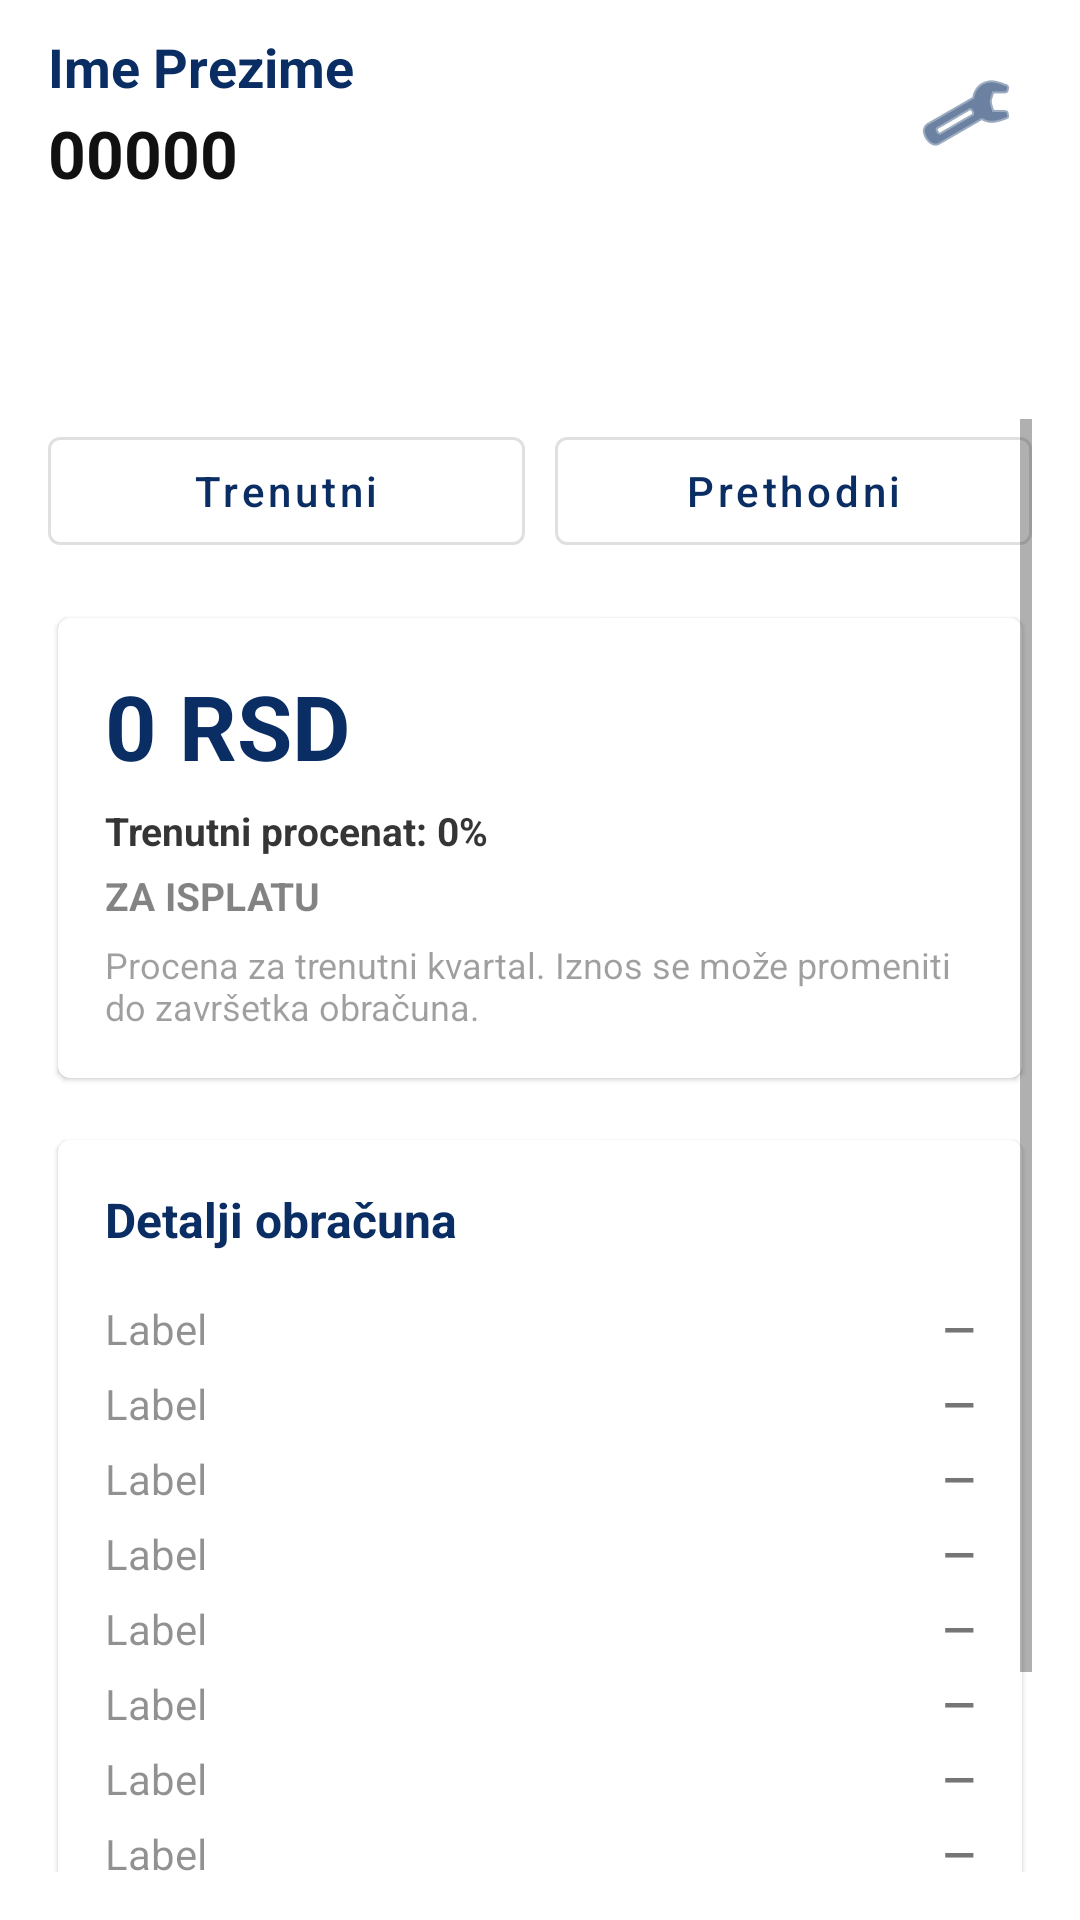

Screen size 1080 × 1920. Icon name, then its box in pixels as (x1, y1, x2, y2):
Podešavanja: (923, 80, 1009, 146)
